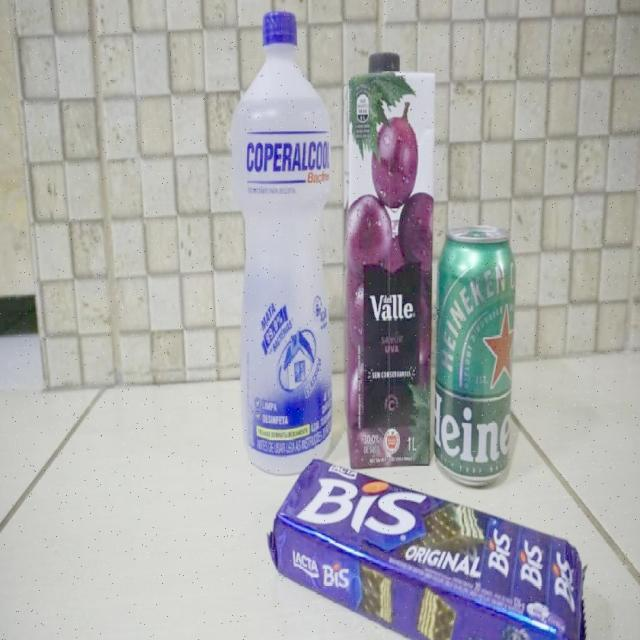AlcoholBottle: (231, 14, 335, 474)
BeerCan: (436, 225, 516, 488)
